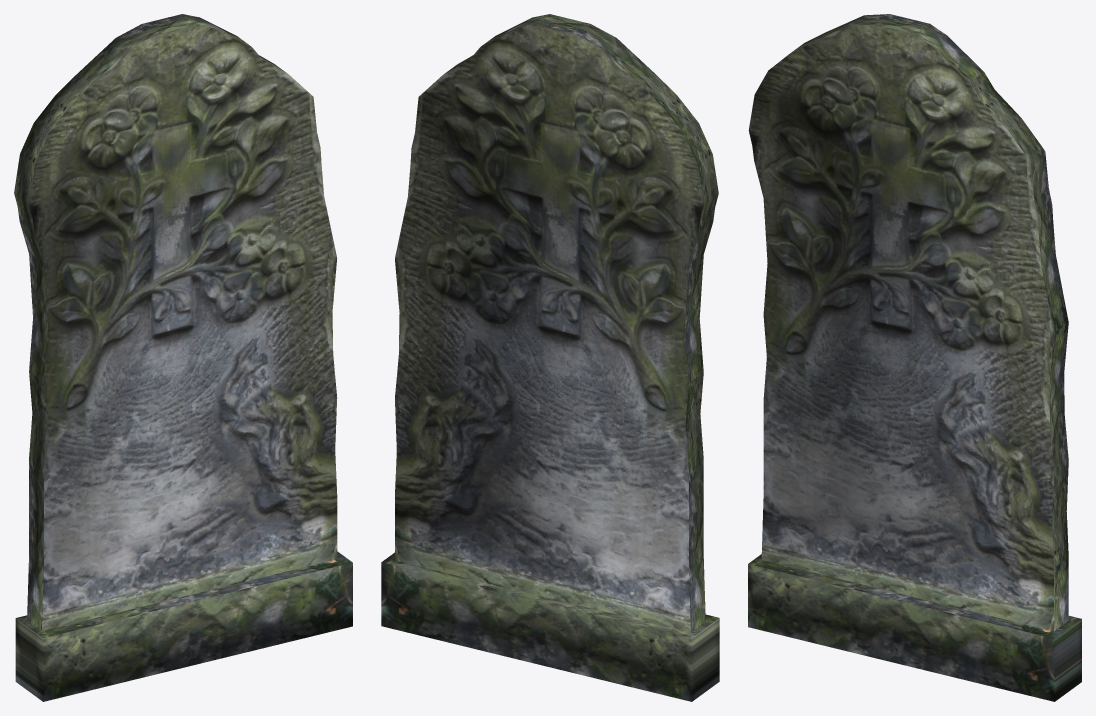
File: gravestoneG.fbx
3 renders of one model, left to right at view 1: azimuth 30°, elevation 25°; view 2: azimuth 150°, elevation 25°; view 3: azimuth 330°, elevation 25°, orthographic.
Visible parts, largest first — view 1: U3DMesh; view 2: U3DMesh; view 3: U3DMesh.
Part boxes in pixels (x1,y1,x2,y2): U3DMesh: (14,14,352,701); U3DMesh: (381,14,719,701); U3DMesh: (748,14,1081,701).
Size of the model in its own units: 25.63 by 48.92 by 3.86.
